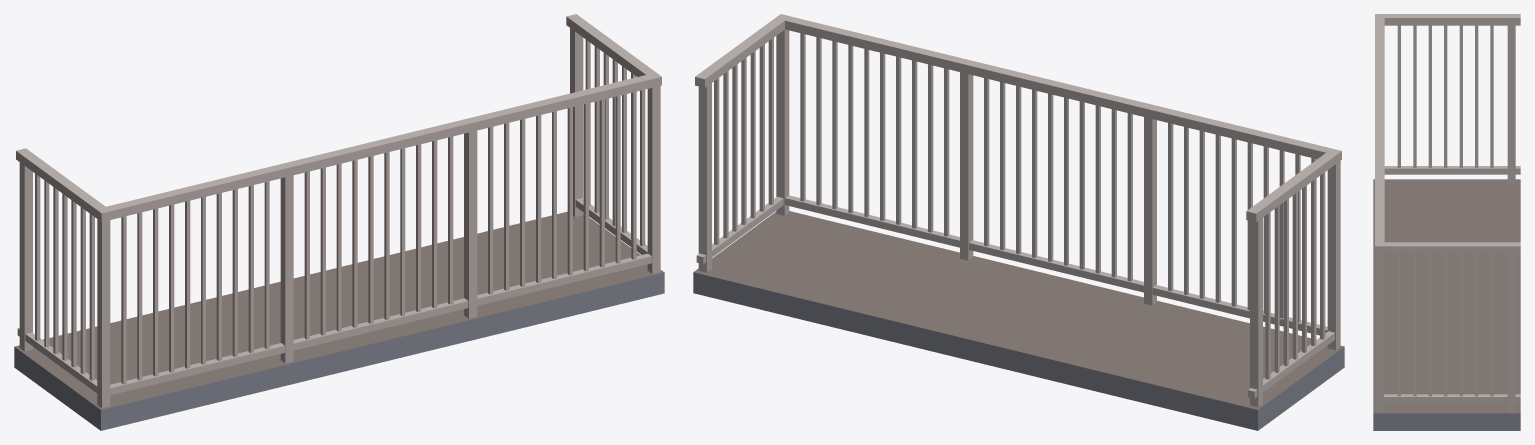
The model's file is SM_Fixture_BalconyShort25620_AluBars_01.gltf.
3 views of the same model, side by side, from view 1: azimuth 30°, elevation 25°; view 2: azimuth 150°, elevation 25°; view 3: azimuth 270°, elevation 25° (orthographic). The views are drawn at different scales.
Parts seen in each view (by area): view 1: SM_Fixture_BalconyShort25620_AluBars_01; view 2: SM_Fixture_BalconyShort25620_AluBars_01; view 3: SM_Fixture_BalconyShort25620_AluBars_01.
Boxes of the visible parts, x1=… form: SM_Fixture_BalconyShort25620_AluBars_01: x1=14, y1=14, x2=664, y2=430; SM_Fixture_BalconyShort25620_AluBars_01: x1=693, y1=14, x2=1344, y2=430; SM_Fixture_BalconyShort25620_AluBars_01: x1=1373, y1=14, x2=1520, y2=430.
Bounding box in the file's own units: 3.38 × 1.24 × 0.9.
Materials: 1 (1 with a texture image).
